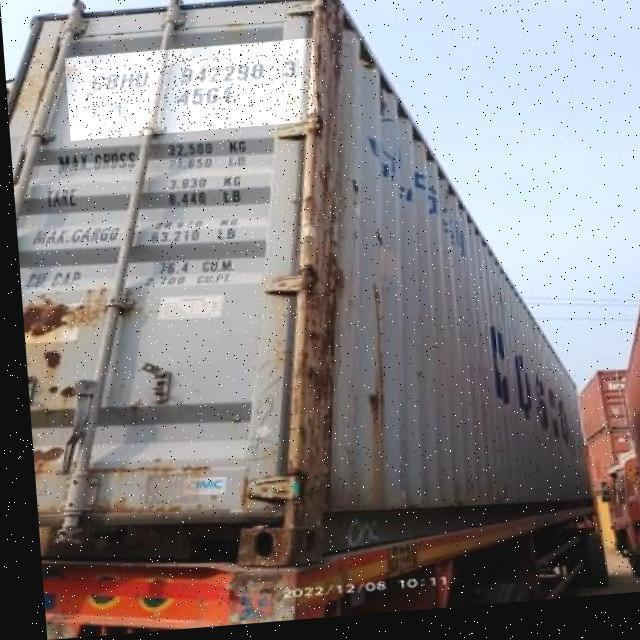container_number_h: (64, 43, 317, 142)
